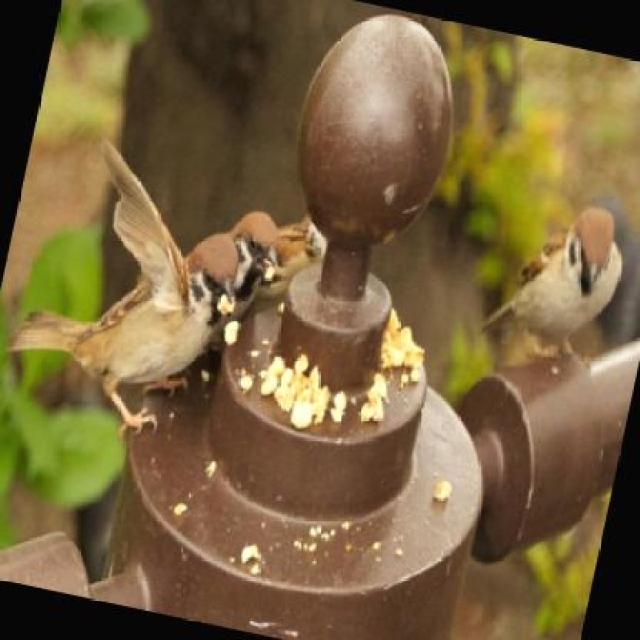sparrow: (0, 126, 262, 419), (484, 186, 628, 369)
